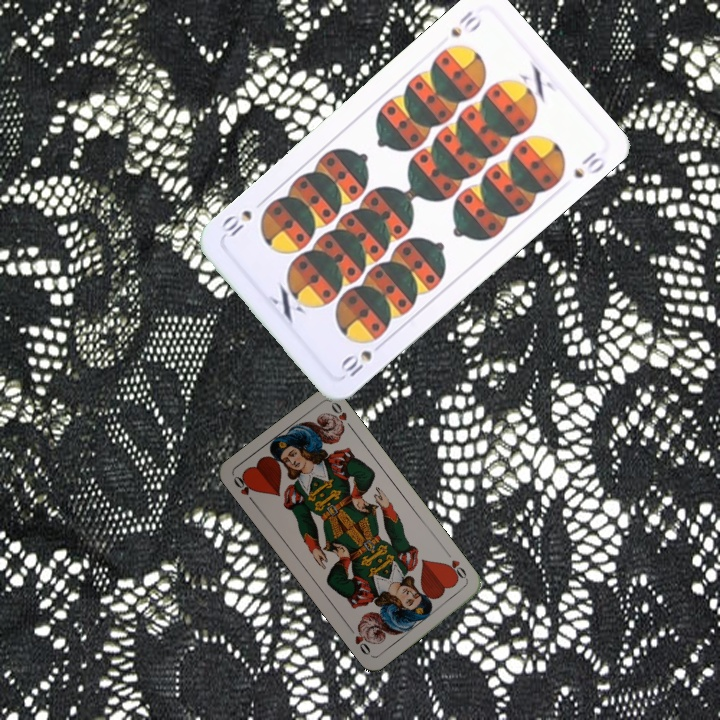HO: (229, 471, 259, 508), (441, 548, 470, 584)
S10: (336, 337, 388, 382), (446, 6, 479, 40)
